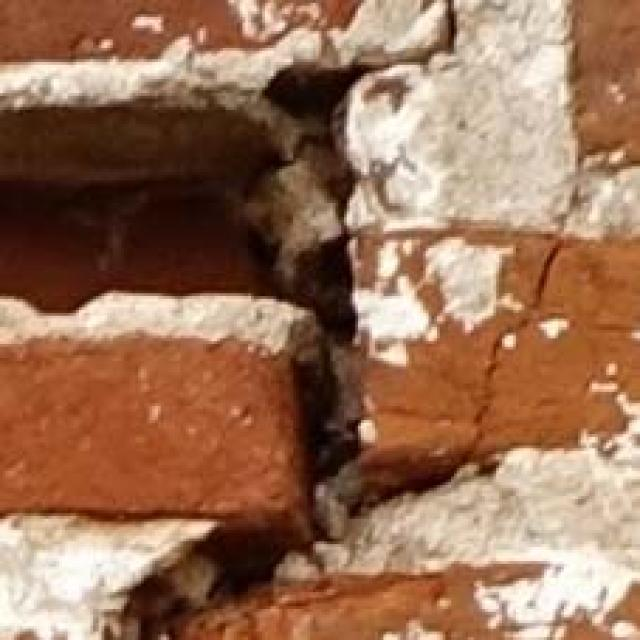Crack: (0, 0, 559, 640)
